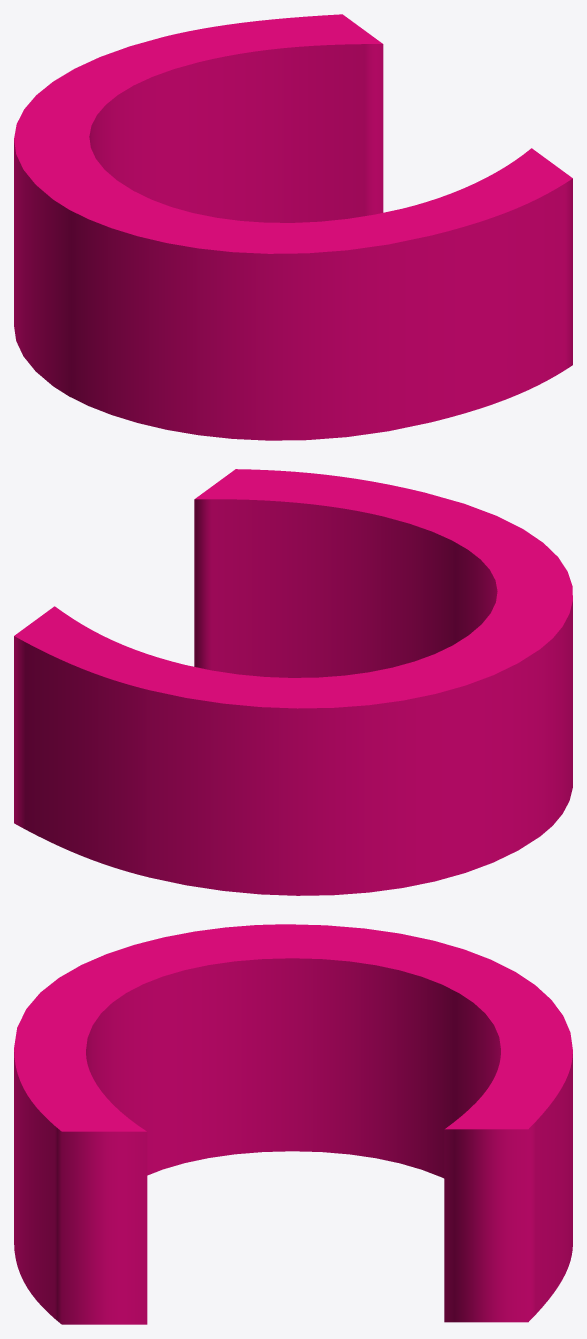
3 views of the same model, one above another, from view 1: azimuth 30°, elevation 25°; view 2: azimuth 150°, elevation 25°; view 3: azimuth 270°, elevation 25° (orthographic). The views are drawn at different scales.
Visible parts, largest first — view 1: C; view 2: C; view 3: C.
Part boxes in pixels (x1,y1,x2,y2): C: (14, 14, 572, 440); C: (14, 469, 572, 895); C: (14, 924, 572, 1324).
Size of the model in its own units: 0.9225 by 0.4 by 1.05.
